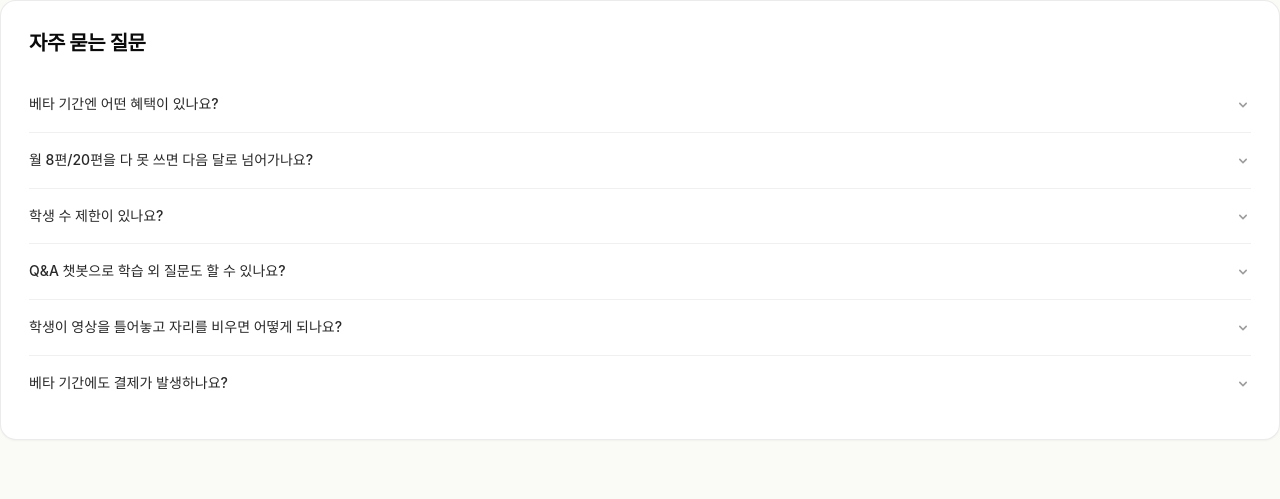
Test: FaqAccordion › toggles a panel open/closed via the button
Click the button with test id "pricing-faq-toggle-0" at (124, 104), box top-left (29, 77), bottom-right (1251, 132)
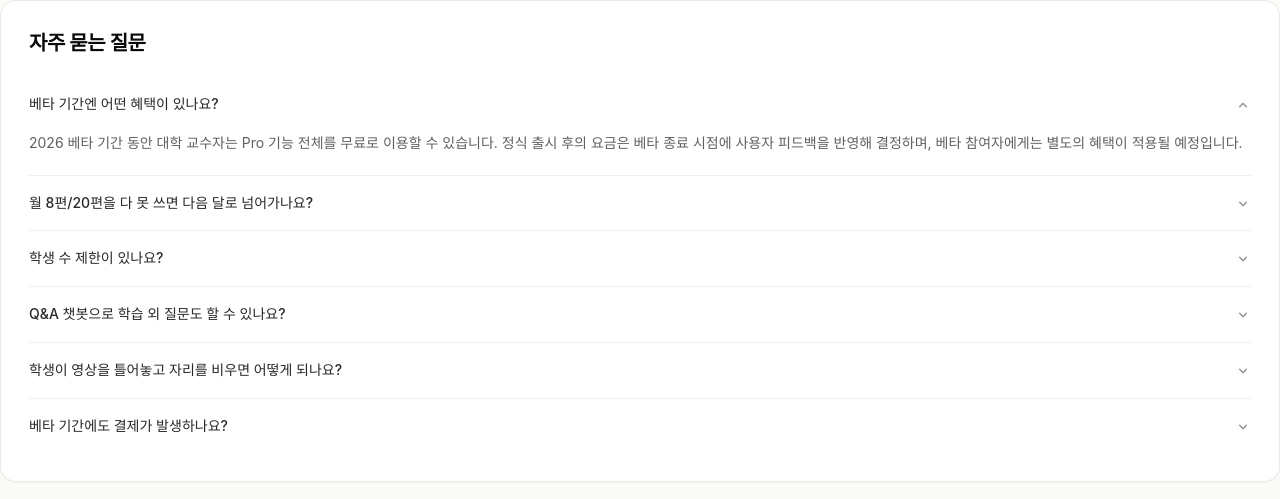
Now the button with test id "pricing-faq-toggle-0" is expanded
Now the text with test id "pricing-faq-panel-0" is shown, box top-left (29, 134), bottom-right (1243, 151)
Click the button with test id "pricing-faq-toggle-0" at (124, 104), box top-left (29, 77), bottom-right (1251, 132)
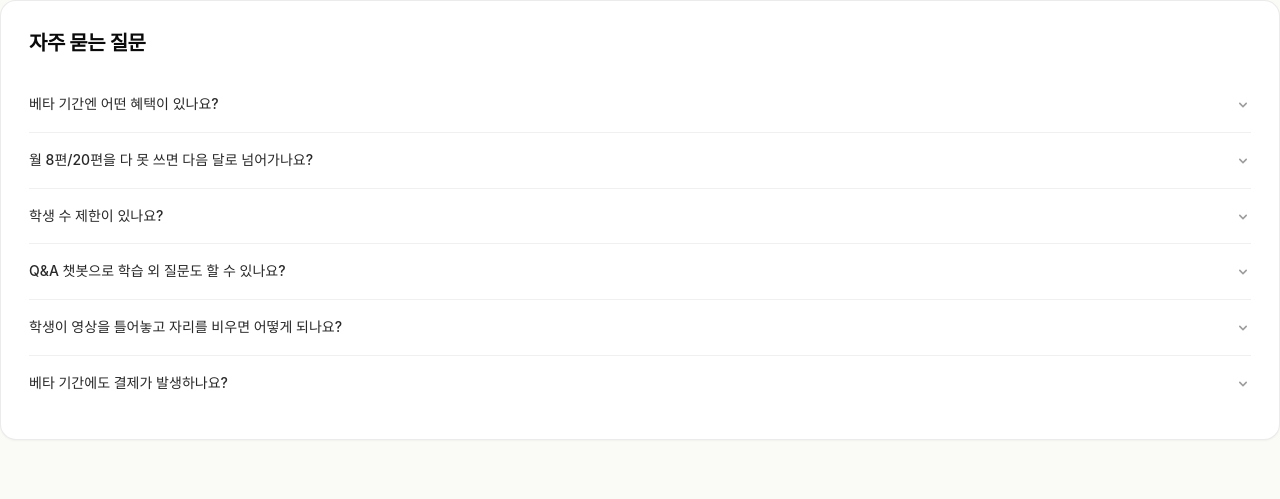
Now the button with test id "pricing-faq-toggle-0" is collapsed, box top-left (29, 77), bottom-right (1251, 132)
Now the text with test id "pricing-faq-panel-0" is gone
